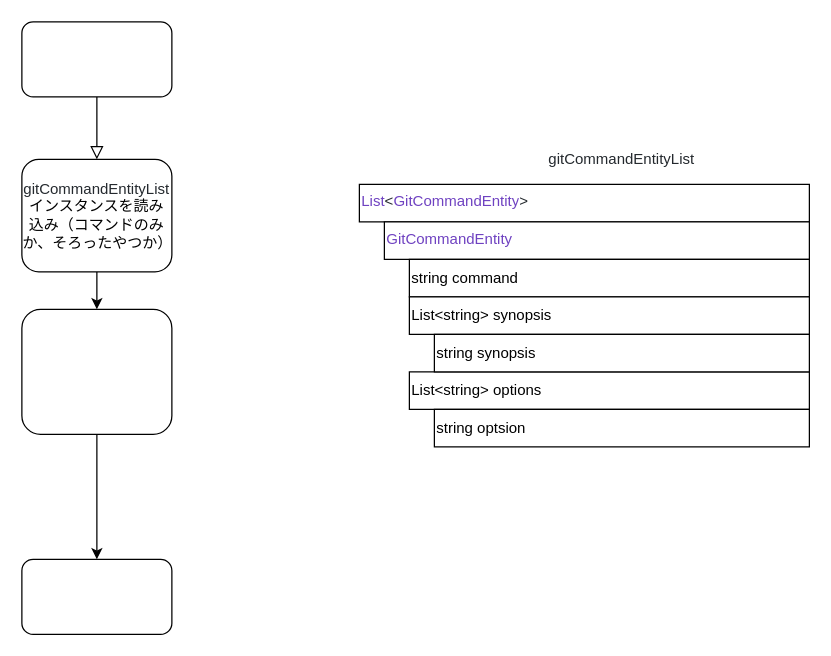
Some shapes in this 831 by 656 pixel diagram are drawn without their labels. Here are the shapes that lost their labels. From the top down, the centre of each, then its label:
At (x=96, y=59): "MainEntityから gitCommandEntityListを取得".
At (x=96, y=371): "Gitの公式サイトから、optionsとsynopsisを取得して、 gitCommandEntityListに入れる".
